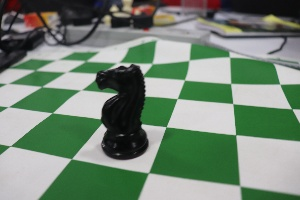black_horse: (85, 45, 154, 164)
